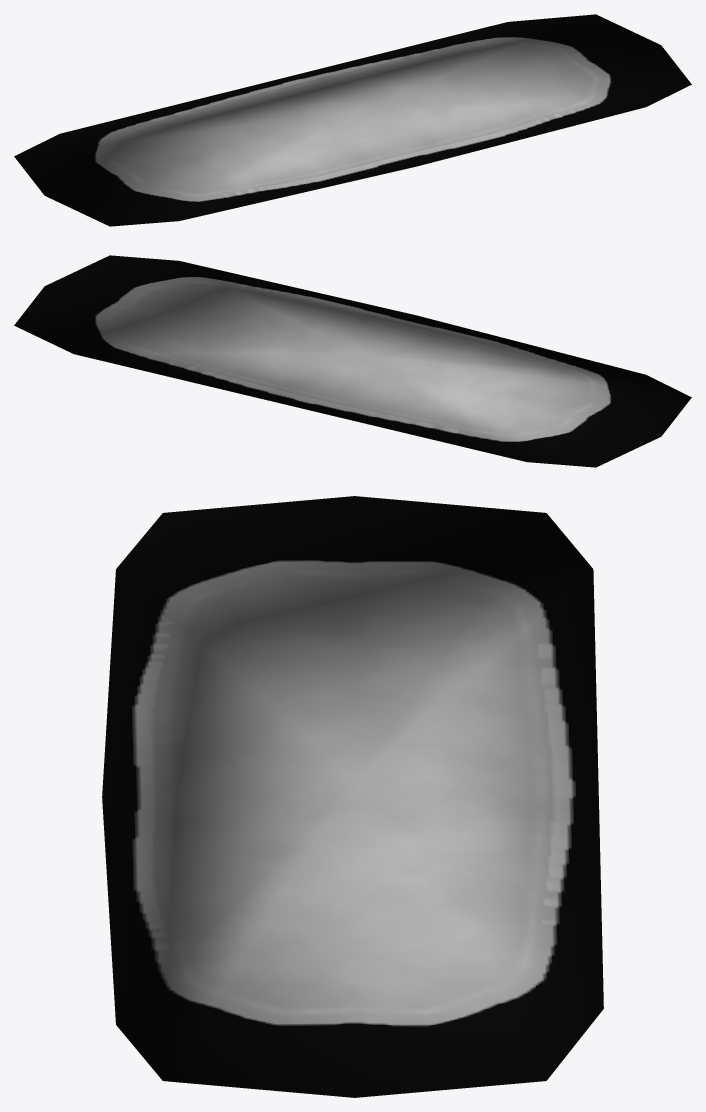
File: EstucheGuitarra_C2.fbx
3 renders of one model, top to bottom at view 1: azimuth 30°, elevation 25°; view 2: azimuth 150°, elevation 25°; view 3: azimuth 270°, elevation 25°, orthographic. The views are drawn at different scales.
Parts seen in each view (by area): view 1: Civ_EstucheGuitarra_C2; view 2: Civ_EstucheGuitarra_C2; view 3: Civ_EstucheGuitarra_C2.
Boxes of the visible parts, left/top/right/bottom form: Civ_EstucheGuitarra_C2: left=14, top=14, right=691, bottom=226; Civ_EstucheGuitarra_C2: left=14, top=255, right=691, bottom=467; Civ_EstucheGuitarra_C2: left=102, top=496, right=603, bottom=1097.
Size of the model in its own units: 3.13 by 0.0857 by 1.1.
